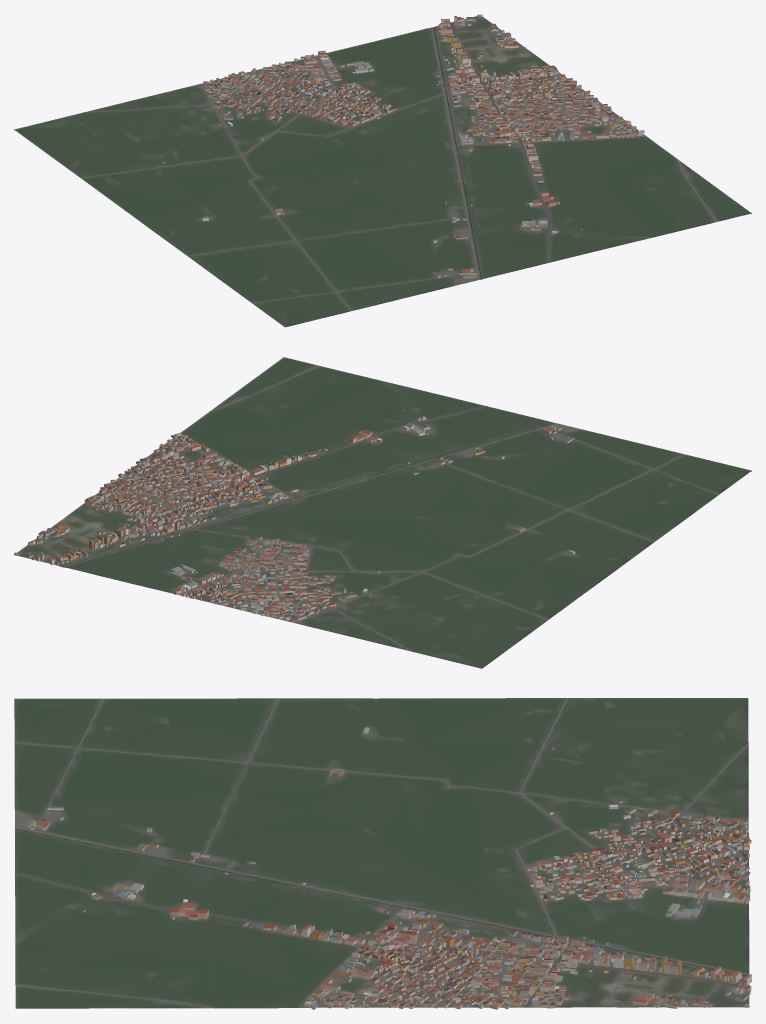
The picture shows the model from 3 angles, top to bottom: view 1: azimuth 30°, elevation 25°; view 2: azimuth 150°, elevation 25°; view 3: azimuth 270°, elevation 25°; orthographic projection. The views are drawn at different scales.
Visible parts, largest first — view 1: ground, buildings, roads; view 2: ground, buildings, roads; view 3: ground, buildings, roads, water.
Part boxes in pixels (left/top/right/bottom): ground: left=14, top=16, right=751, bottom=327; buildings: left=162, top=14, right=644, bottom=278; roads: left=81, top=19, right=716, bottom=311; ground: left=14, top=357, right=751, bottom=668; buildings: left=14, top=409, right=575, bottom=622; roads: left=30, top=365, right=719, bottom=651; ground: left=14, top=698, right=749, bottom=1008; buildings: left=22, top=727, right=751, bottom=1009; roads: left=14, top=698, right=749, bottom=1008; water: left=15, top=829, right=746, bottom=976.
Bounding box in the file's own units: 1408 × 30.9 × 1410.
